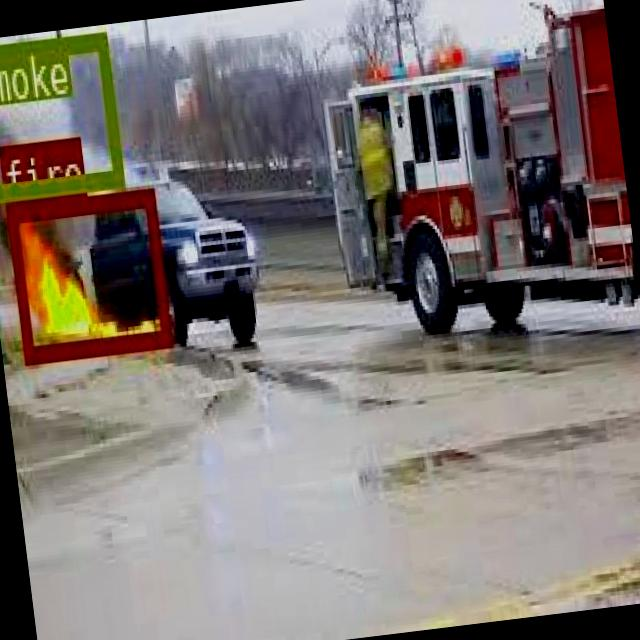fire: (3, 185, 170, 362)
smoke: (0, 30, 121, 200)
